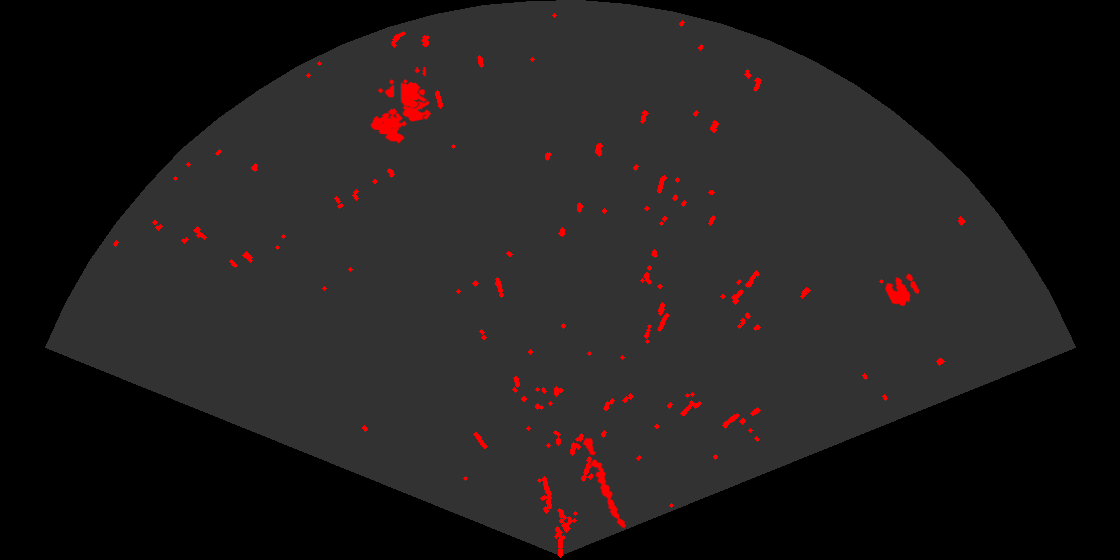ball: (883, 272, 921, 308), (401, 88, 433, 123)
cage: (369, 67, 427, 145)
chain: (581, 435, 628, 530)
